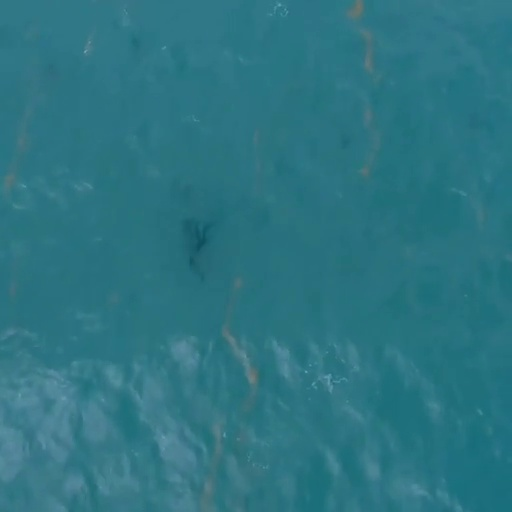shark: (175, 209, 215, 283)
